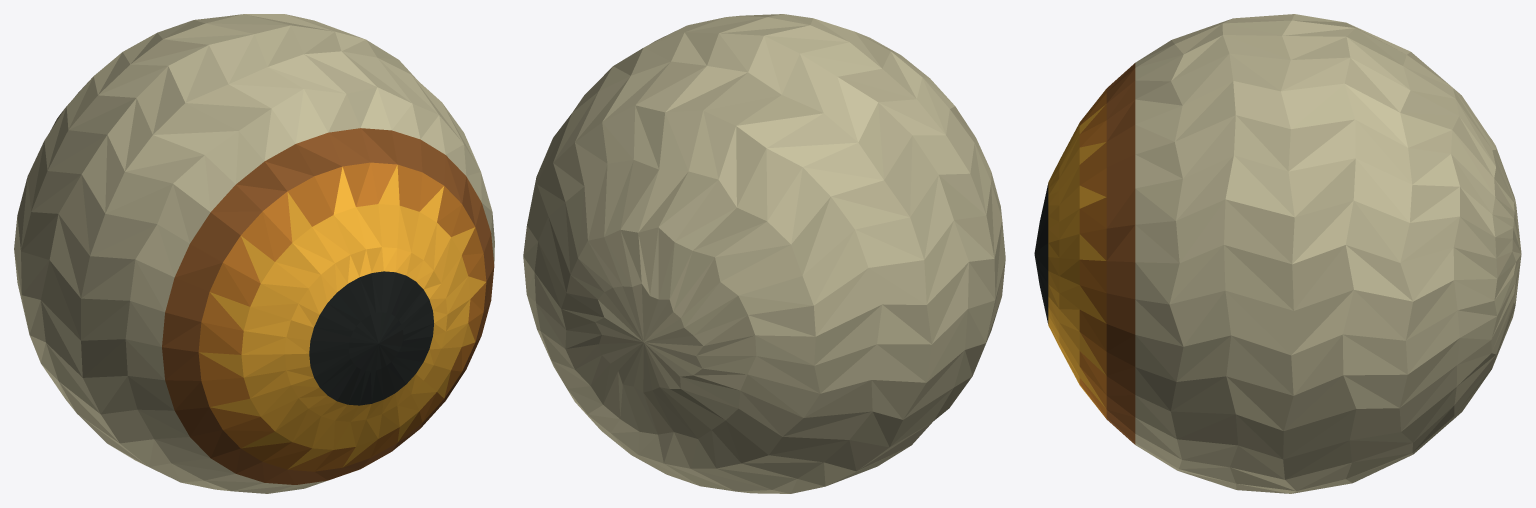
File: golden_eye.glb
3 renders of one model, left to right at view 1: azimuth 30°, elevation 25°; view 2: azimuth 150°, elevation 25°; view 3: azimuth 270°, elevation 25°, orthographic.
Parts seen in each view (by area): view 1: GoldenEye; view 2: GoldenEye; view 3: GoldenEye.
Part boxes in pixels (<box>): GoldenEye: <box>14,14,494,493</box>; GoldenEye: <box>523,14,1005,493</box>; GoldenEye: <box>1034,14,1521,493</box>.
Bounding box in the file's own units: 2 × 2 × 2.02.
